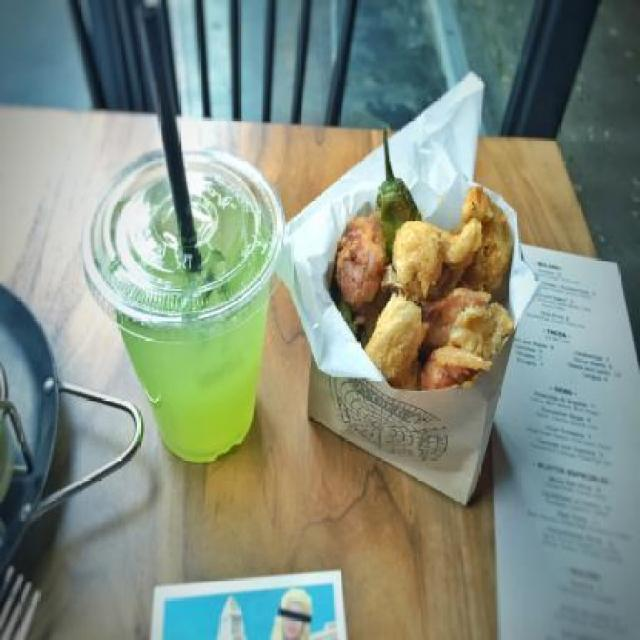Juice: (86, 170, 282, 482)
